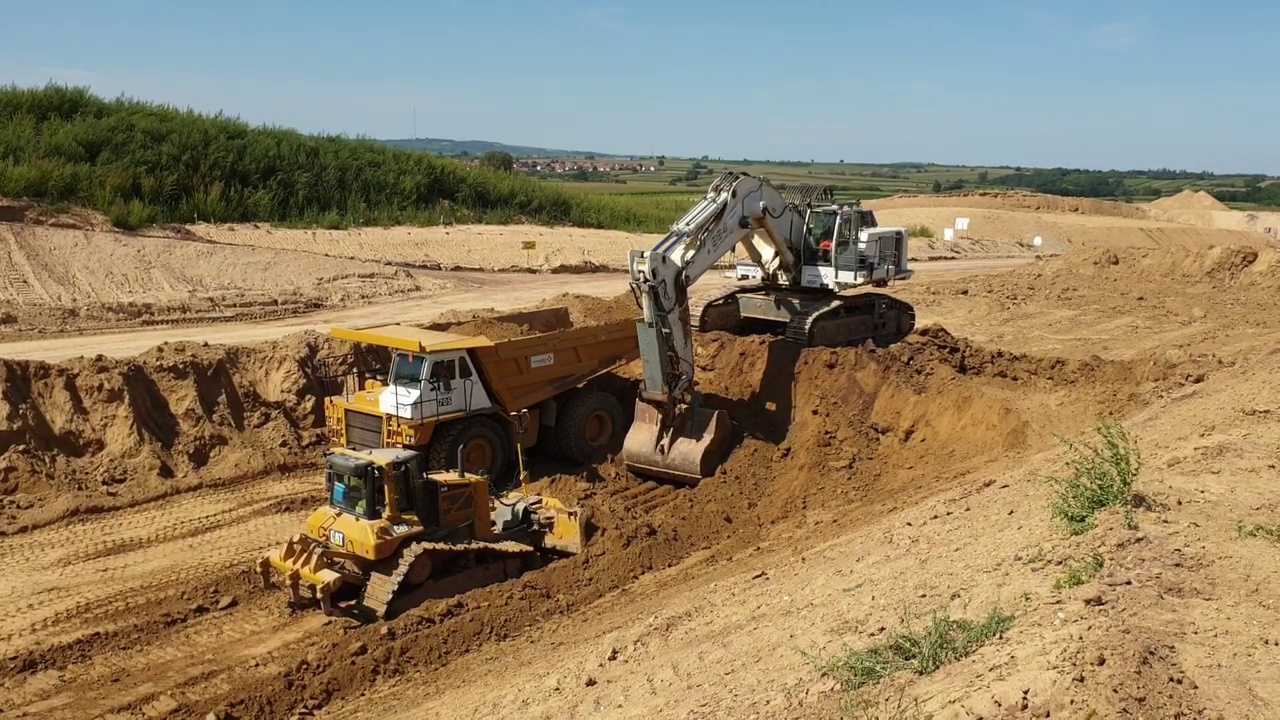bulldozer: (256, 403, 597, 623)
excavator: (623, 169, 919, 488)
truck: (319, 305, 647, 500)
